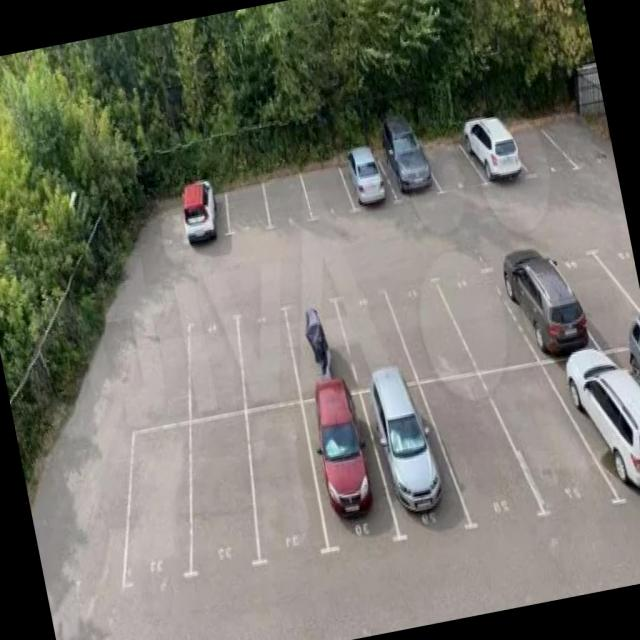car: (363, 373, 464, 554), (302, 388, 400, 558), (552, 340, 640, 522), (497, 238, 589, 368), (283, 297, 358, 401), (466, 105, 532, 204), (376, 131, 446, 221), (178, 180, 238, 257), (342, 146, 394, 223)
free: (492, 354, 610, 540), (422, 362, 538, 537), (108, 418, 216, 580), (242, 396, 336, 574), (188, 410, 270, 580), (444, 250, 534, 376), (560, 233, 640, 350), (335, 275, 413, 393), (393, 268, 469, 382), (183, 304, 252, 414), (542, 89, 616, 189), (232, 304, 300, 404), (418, 122, 492, 208), (512, 102, 576, 196), (300, 158, 358, 238), (263, 166, 316, 236), (226, 178, 276, 240)
